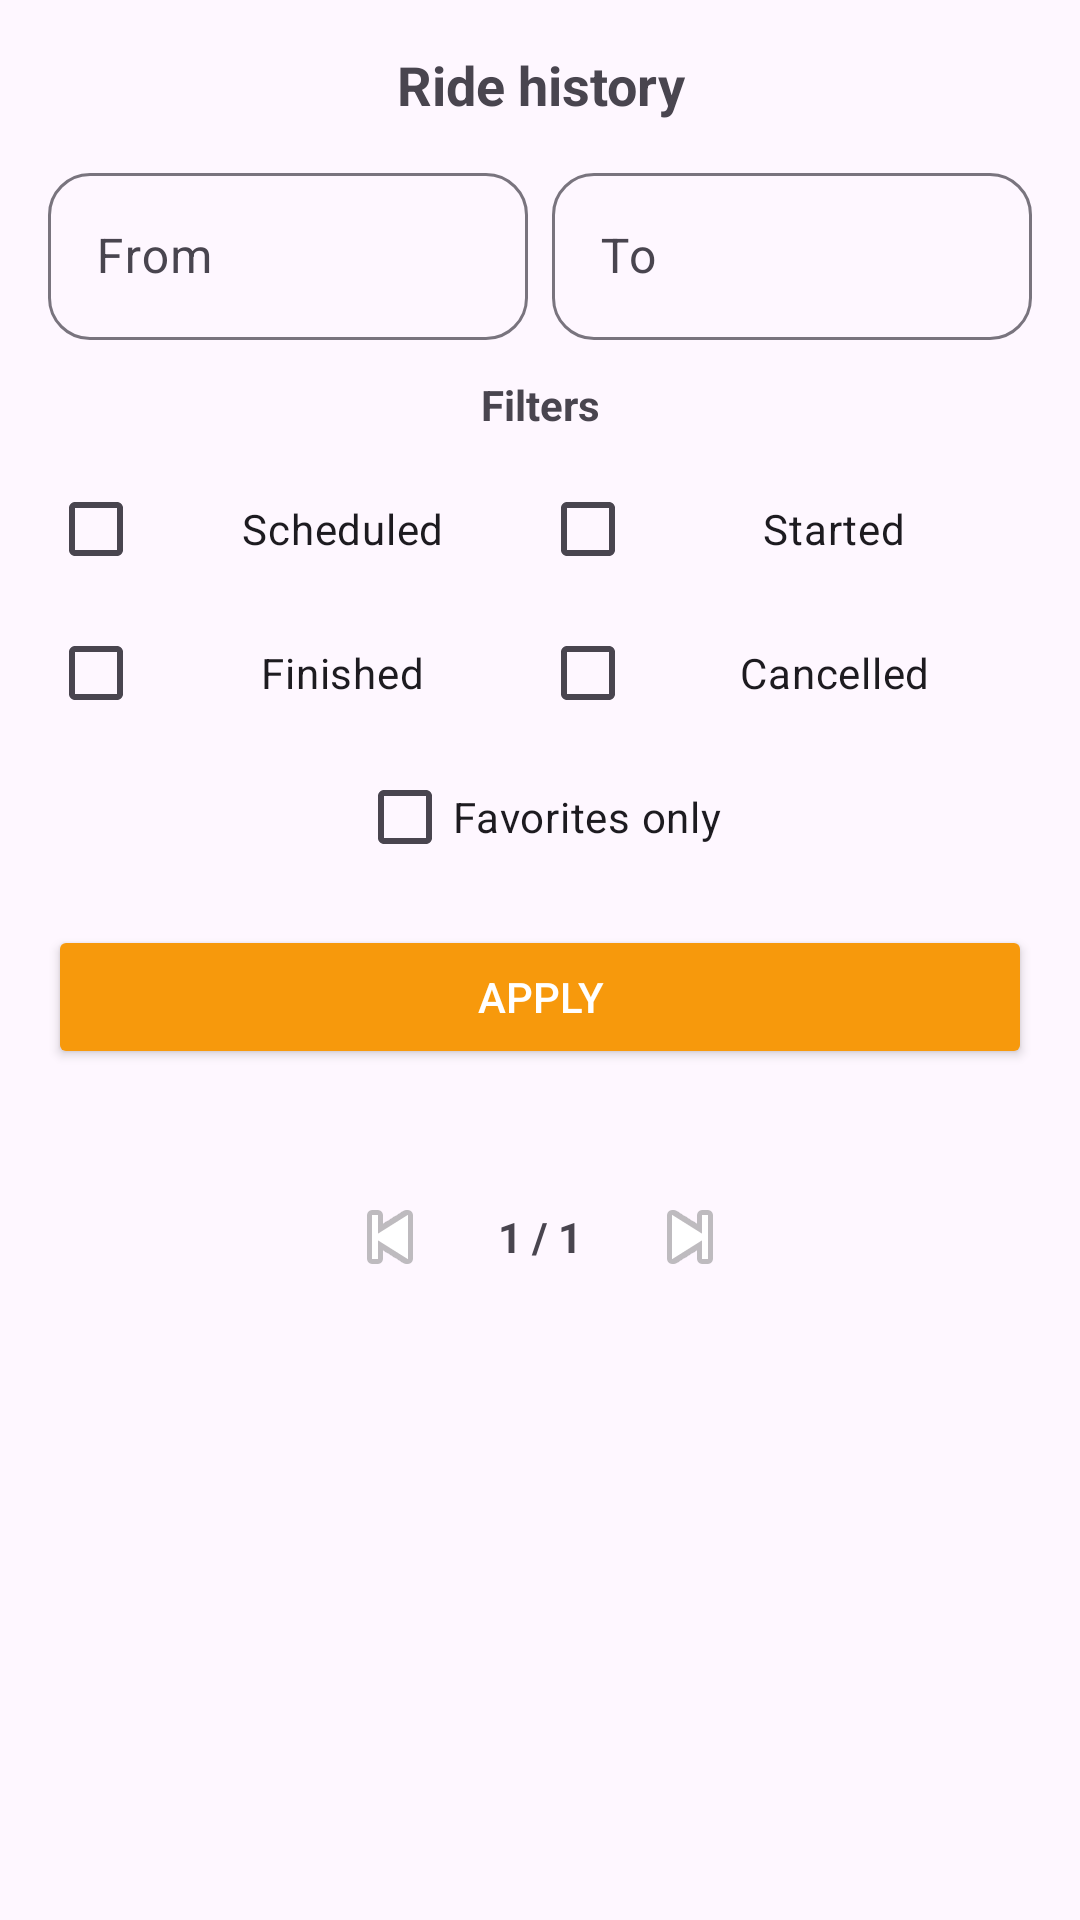

Named icons in this screenshot (1080 x 1920) and their bounding boxes, box=[x1, y1, x2, y2]:
Next: box=[667, 1210, 713, 1264]
Previous: box=[367, 1210, 413, 1264]
